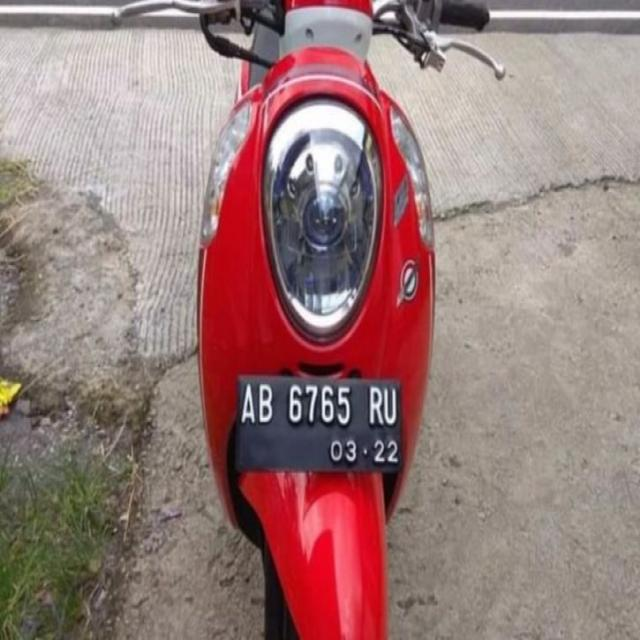plate: (236, 380, 404, 479)
